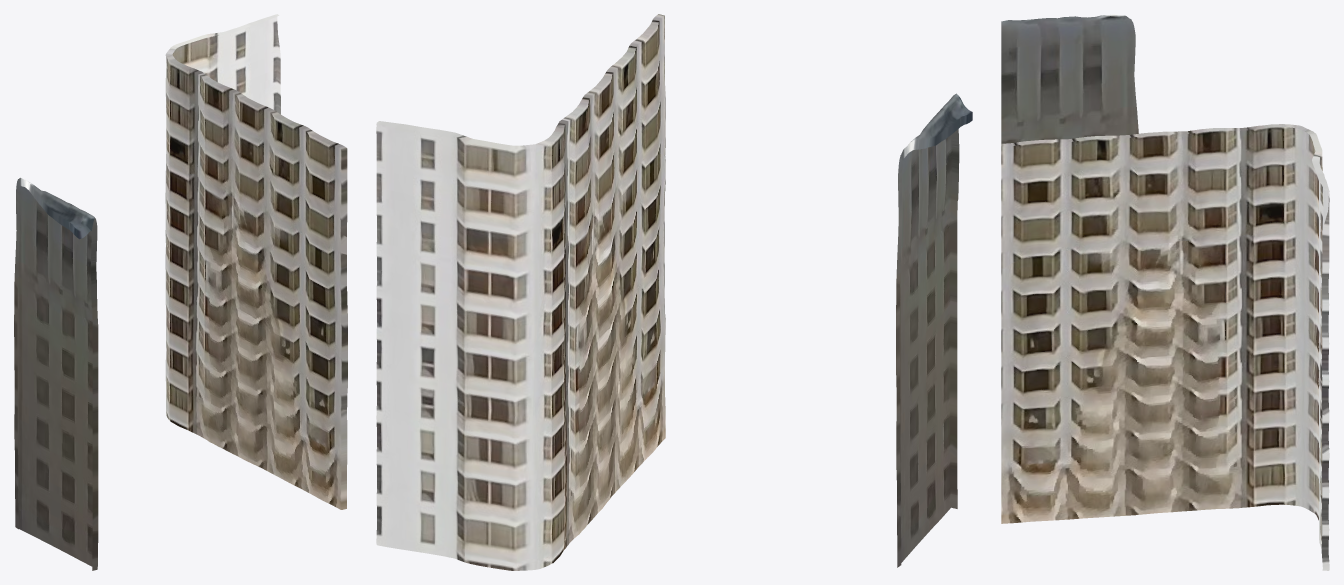
Rendered from z20-167747-405243-h1-yup-uvflip-v3-world.glb.
3 renders of one model, left to right at view 1: azimuth 30°, elevation 25°; view 2: azimuth 150°, elevation 25°; view 3: azimuth 270°, elevation 25°, orthographic. The views are drawn at different scales.
Bounding box in the file's own units: 30.16 × 29.4 × 23.
Materials: 1 (1 with a texture image).
